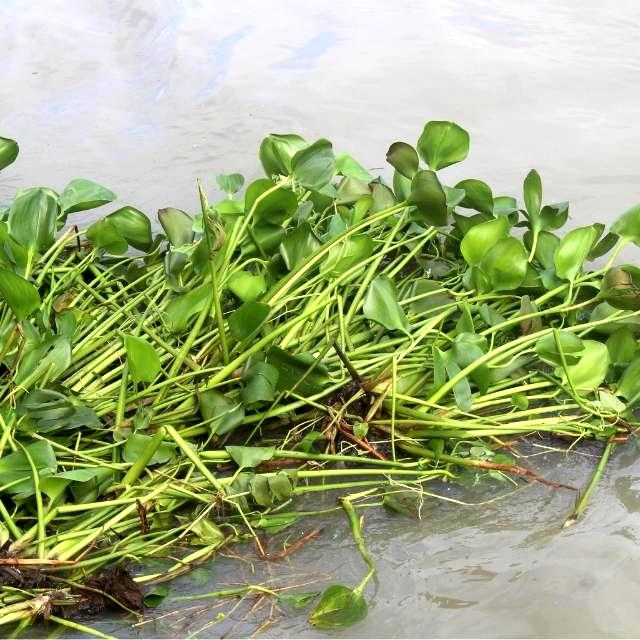water-hyacinth: (3, 103, 640, 639)
